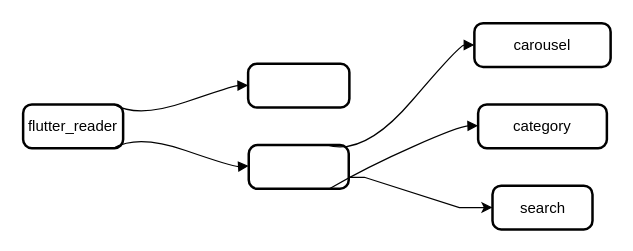
Image size: 633x251. Some labels were removed from this diagram. Here are the shapes that lost their labels. From the top down, the centre of each, then its label:
At (298,85): "splash".
At (298,166): "home".
